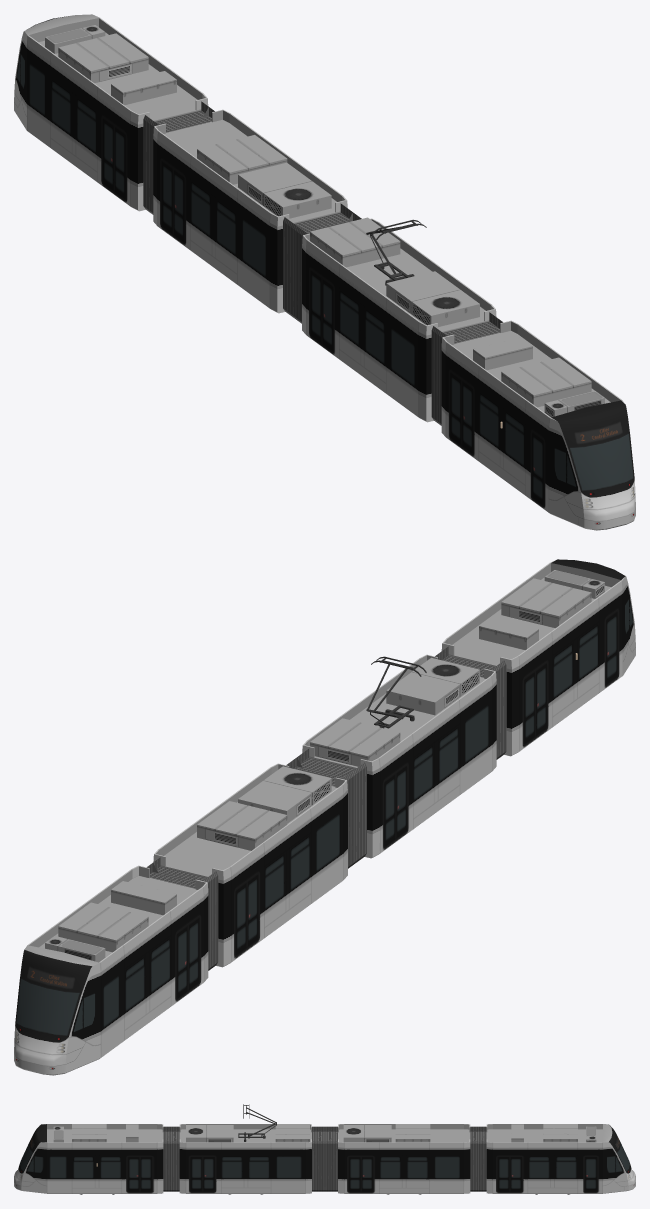
The model's file is tram_siemens_avenio.gltf.
The picture shows the model from 3 angles, top to bottom: view 1: azimuth 30°, elevation 25°; view 2: azimuth 150°, elevation 25°; view 3: azimuth 270°, elevation 25°; orthographic projection. The views are drawn at different scales.
Parts seen in each view (by area): view 1: Avenio0, Avenio1, Avenio1.001, Avenio0.copy; view 2: Avenio0.copy, Avenio1, Avenio1.001, Avenio0; view 3: Avenio1, Avenio1.001, Avenio0.copy, Avenio0.
Boxes of the visible parts, x1,y1,x2,y2 form: Avenio0: (439,318,635,530); Avenio1: (295,212,497,425); Avenio1.001: (151,107,352,319); Avenio0.copy: (14,14,208,214); Avenio0.copy: (14,863,210,1075); Avenio1: (297,652,498,864); Avenio1.001: (153,757,354,970); Avenio0: (441,559,635,759); Avenio1: (171,1104,324,1194); Avenio1.001: (325,1124,478,1194); Avenio0.copy: (478,1124,635,1194); Avenio0: (14,1124,171,1194).
Bounding box in the file's own units: 2.63 × 4.94 × 34.94.
2 materials, 2 textured.
